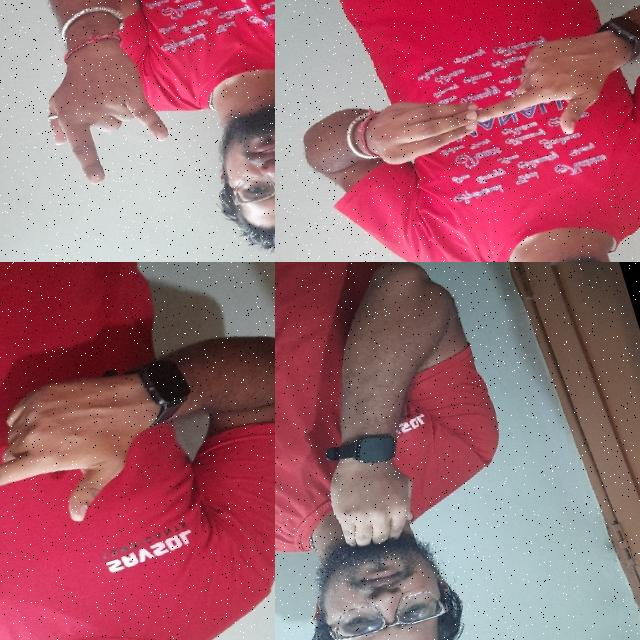Chin Flick: (275, 429, 488, 640)
Corna: (19, 20, 191, 204)
Five Fathers: (334, 1, 636, 208), (0, 350, 167, 600)
